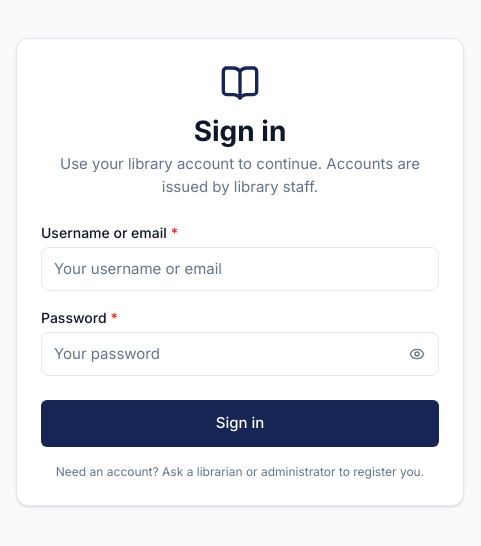
LoginPage › shows validation errors when submitted empty
Click the button "Sign in".
click(240, 423)  # box 41,400 -> 439,446
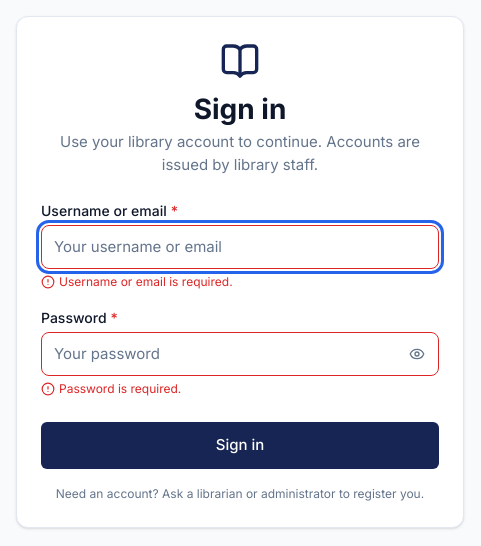
Now the text "Username or email is required." is shown, box 41,274 -> 233,289
Now the text "Password is required." is shown, box 41,381 -> 181,396
